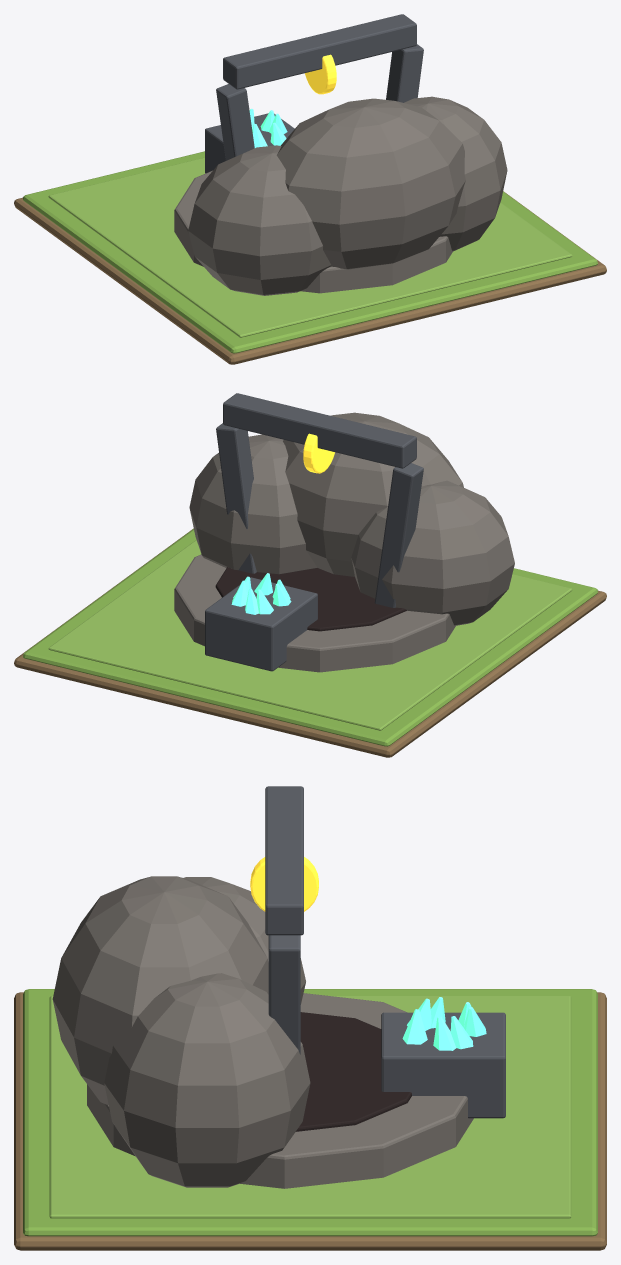
Rendered from gem_mine_lv7.glb.
3 views of the same model, one above another, from view 1: azimuth 30°, elevation 25°; view 2: azimuth 150°, elevation 25°; view 3: azimuth 270°, elevation 25° (orthographic). The views are drawn at different scales.
Visible parts, largest first — view 1: GemRock_2, Base_Inner, GemRock_0, Base_Grass, Base_Dirt, GemHoistBeam, GemRock_1, QuarryPitRim, GemHoistPost_-1, GemHoistPost_1, GemCartBody, GemPulley; view 2: Base_Inner, GemRock_0, Base_Grass, GemRock_2, GemRock_1, QuarryPitRim, Base_Dirt, GemHoistBeam, GemCartBody, QuarryPitHole, GemHoistPost_-1, GemHoistPost_1 (+1 smaller); view 3: Base_Inner, GemRock_1, Base_Grass, GemRock_2, QuarryPitRim, Base_Dirt, GemCartBody, QuarryPitHole, GemHoistBeam, GemHoistPost_1, GemRock_0, GemPulley.
Part boxes in pixels (left/top/right/bottom): GemRock_2: left=276, top=98, right=465, bottom=269; Base_Inner: left=48, top=157, right=572, bottom=337; GemRock_0: left=188, top=145, right=331, bottom=295; Base_Grass: left=23, top=151, right=597, bottom=353; Base_Dirt: left=14, top=191, right=606, bottom=364; GemHoistBeam: left=223, top=14, right=416, bottom=89; GemRock_1: left=404, top=96, right=507, bottom=251; QuarryPitRim: left=174, top=170, right=452, bottom=293; GemHoistPost_-1: left=216, top=84, right=254, bottom=160; GemHoistPost_1: left=386, top=44, right=423, bottom=102; GemCartBody: left=205, top=113, right=294, bottom=173; GemPulley: left=305, top=54, right=336, bottom=94; Base_Inner: left=48, top=540, right=572, bottom=730; GemRock_0: left=351, top=480, right=514, bottom=625; Base_Grass: left=23, top=529, right=597, bottom=746; GemRock_2: left=283, top=412, right=463, bottom=576; GemRock_1: left=189, top=434, right=317, bottom=574; QuarryPitRim: left=174, top=554, right=455, bottom=672; Base_Dirt: left=14, top=528, right=606, bottom=757; GemHoistBeam: left=223, top=393, right=416, bottom=468; GemCartBody: left=205, top=577, right=317, bottom=671; QuarryPitHole: left=215, top=567, right=406, bottom=631; GemHoistPost_-1: left=374, top=463, right=423, bottom=607; GemHoistPost_1: left=216, top=423, right=256, bottom=573; Base_Inner: left=49, top=996, right=571, bottom=1218; GemRock_1: left=104, top=973, right=310, bottom=1187; Base_Grass: left=23, top=989, right=597, bottom=1236; GemRock_2: left=52, top=876, right=268, bottom=1104; QuarryPitRim: left=87, top=993, right=473, bottom=1188; Base_Dirt: left=14, top=992, right=606, bottom=1250; GemCartBody: left=381, top=1012, right=505, bottom=1118; QuarryPitHole: left=296, top=1012, right=411, bottom=1131; GemHoistBeam: left=265, top=786, right=303, bottom=935; GemHoistPost_1: left=268, top=935, right=300, bottom=1054; GemRock_0: left=184, top=877, right=305, bottom=1004; GemPulley: left=250, top=857, right=318, bottom=911.
Size of the model in its own units: 2.76 by 1.47 by 2.76.
